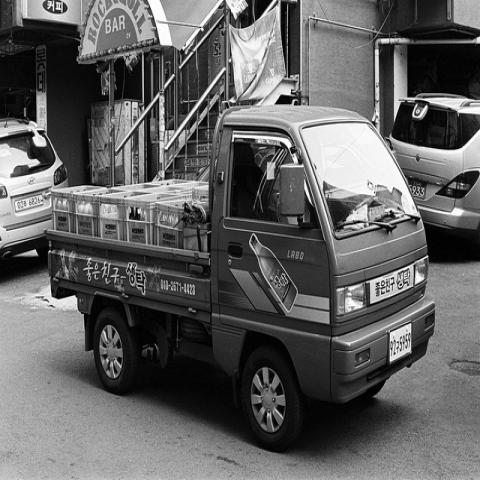car: (388, 94, 479, 241), (0, 120, 71, 275)
truck: (44, 104, 435, 452)
